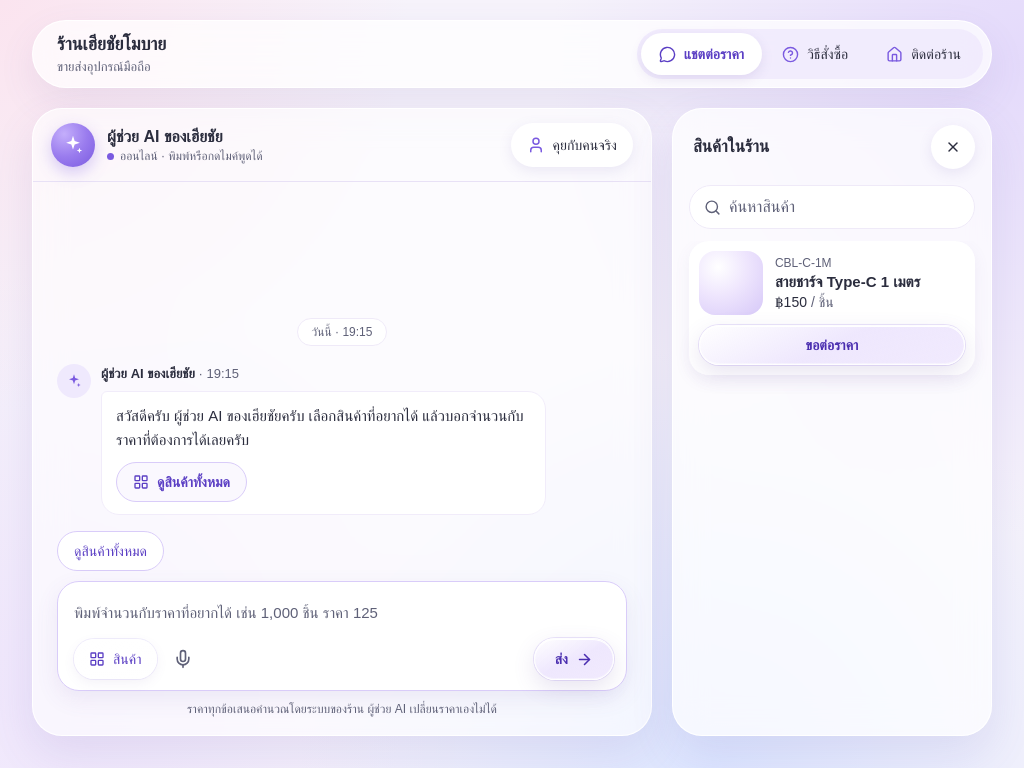
Scenario: ChatScreen — คอม › ปุ่มสินค้าปิด/เปิด drawer
Click the button "สินค้า" at coordinates (115, 659), box [74,639,156,679]
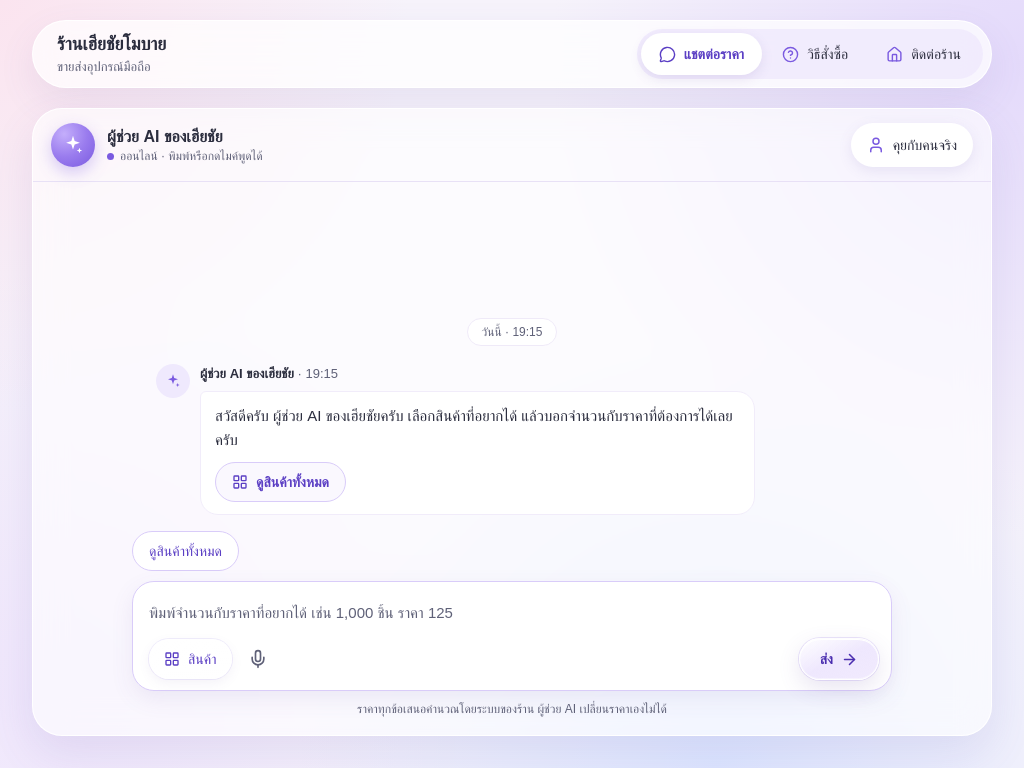
Check: the heading "สินค้าในร้าน" is gone
Click the button "สินค้า" at coordinates (190, 659), box [149,639,232,679]
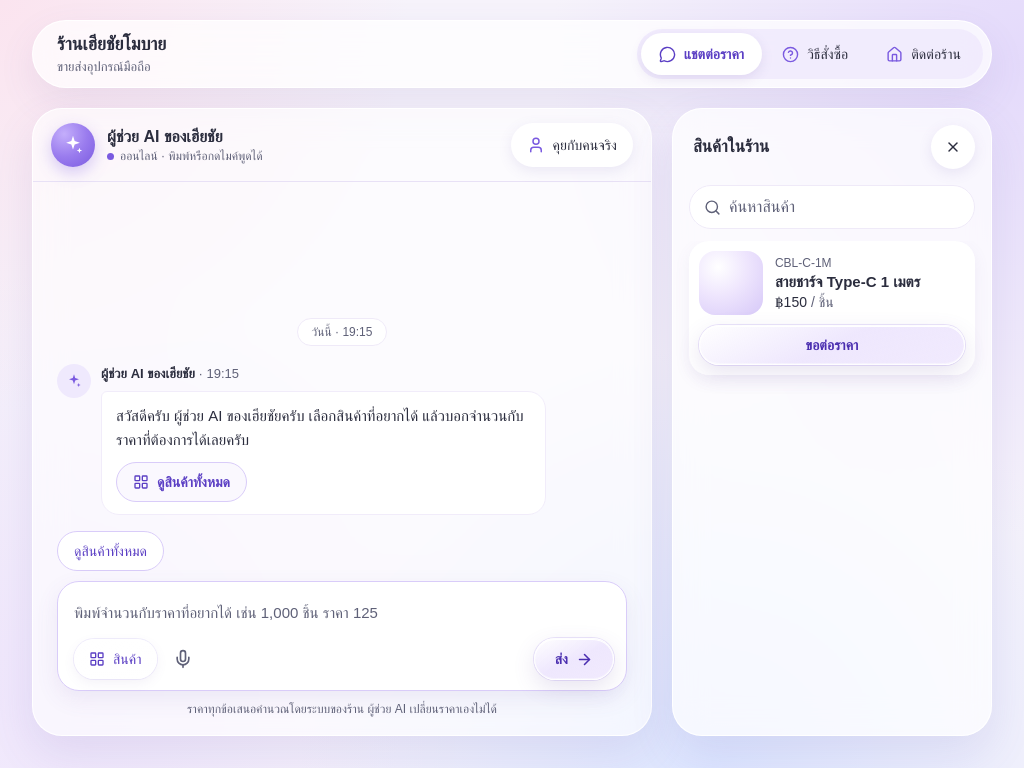
Check: the element "สินค้าในร้าน" is shown, box [672,108,992,736]
